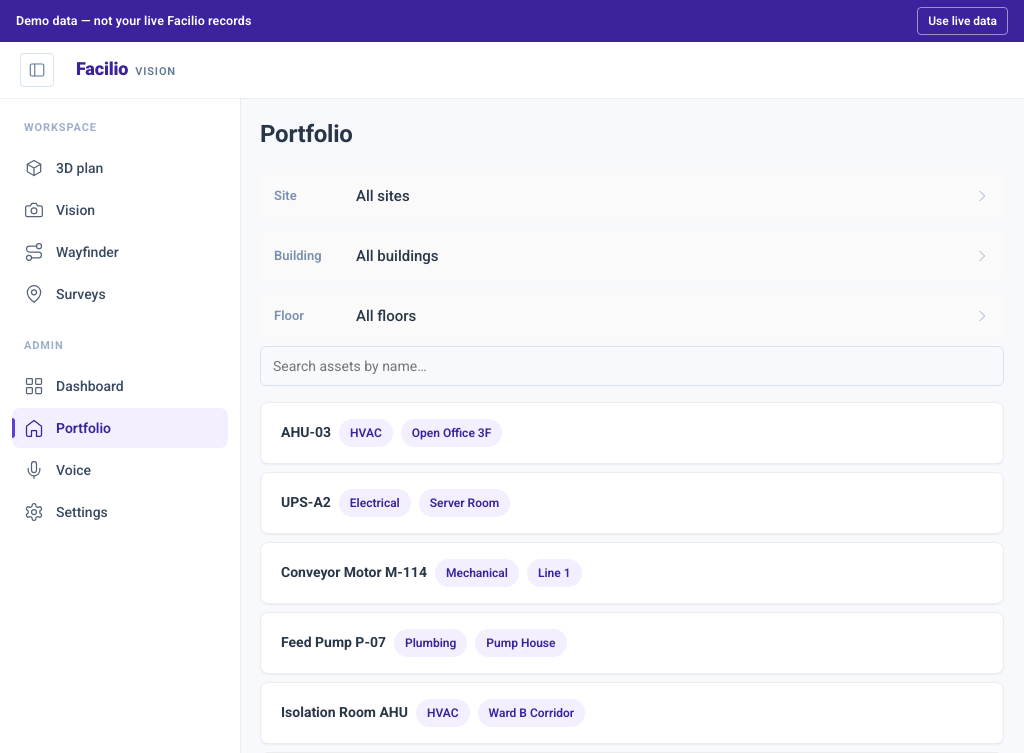
portfolio (mock mode) › creates a work order against the asset
The width and height of the screenshot is (1024, 753).
Step 1. Click the text "UPS-A2" → (306, 502), box [281,494,331,510]
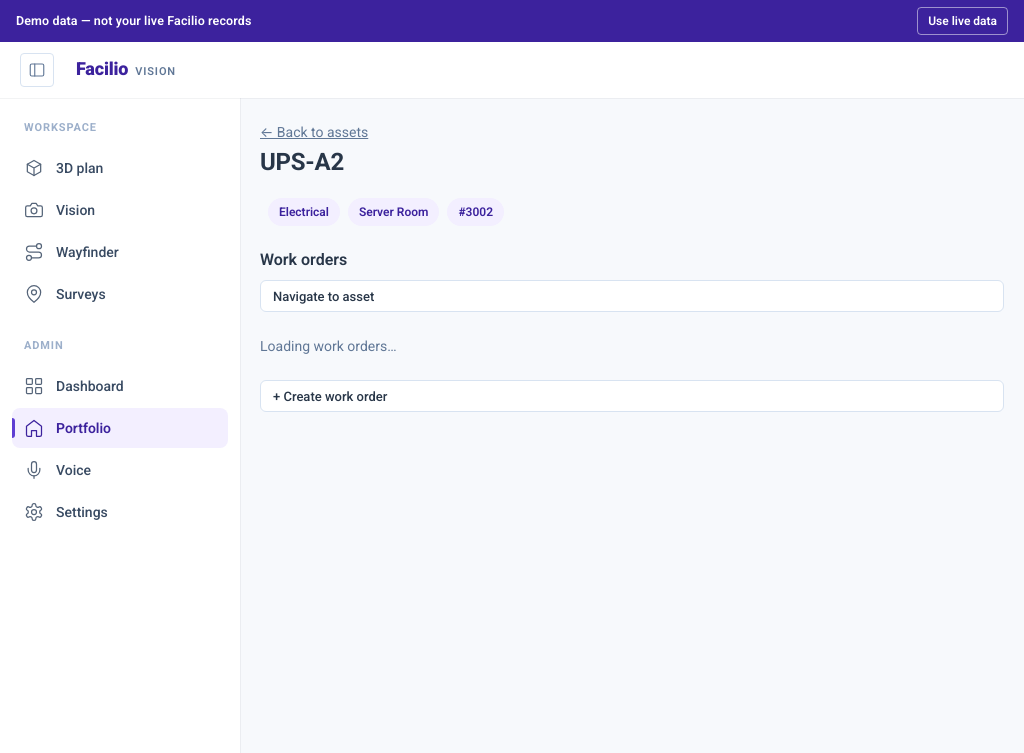
Step 2. Click the button "+ Create work order" → (330, 396), box [260,380,1004,412]
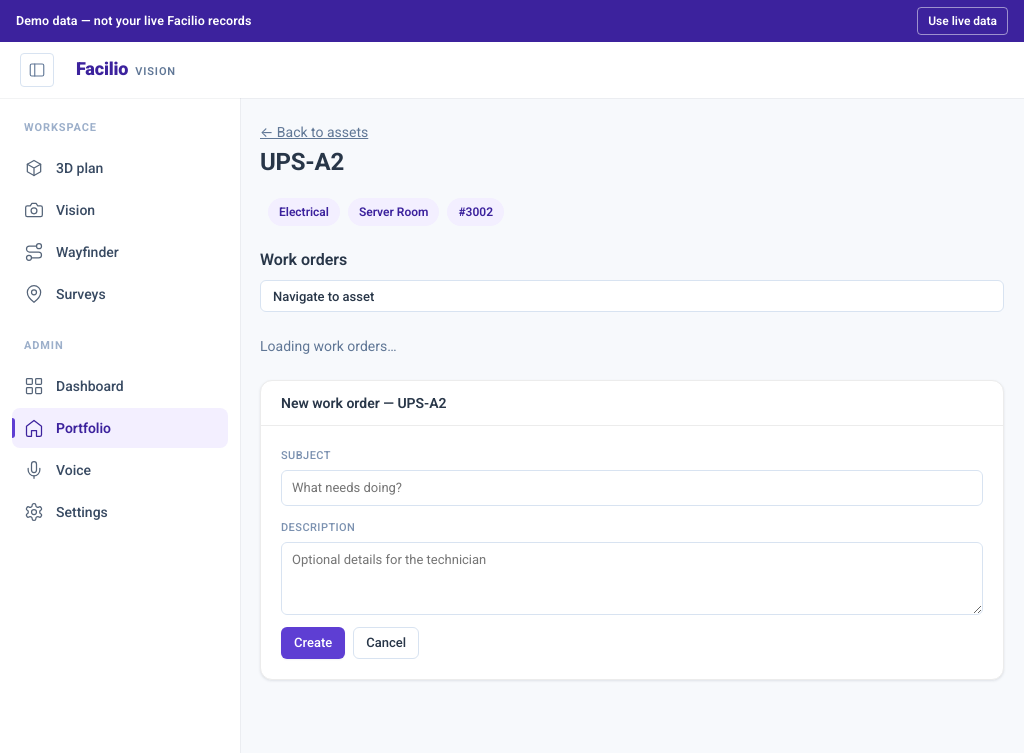
Step 3. Type "Replace battery string B" into the field with placeholder "What needs doing?" → (632, 488), box [281,470,983,506]
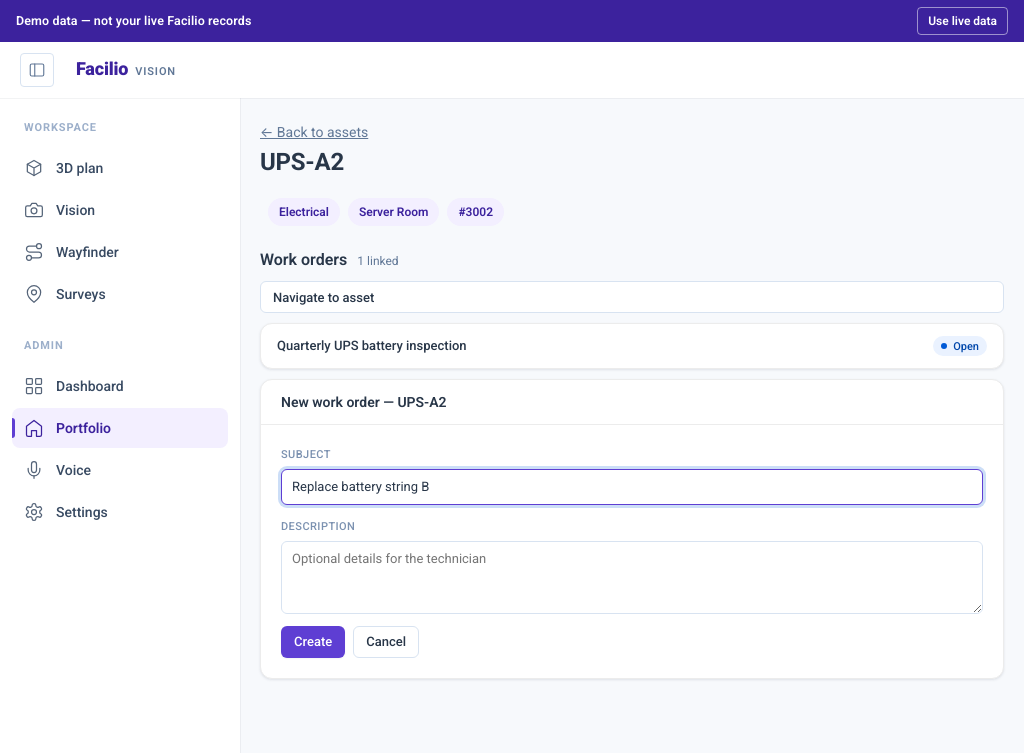
Step 4. Click the button "Create" → (313, 642), box [281,626,345,658]
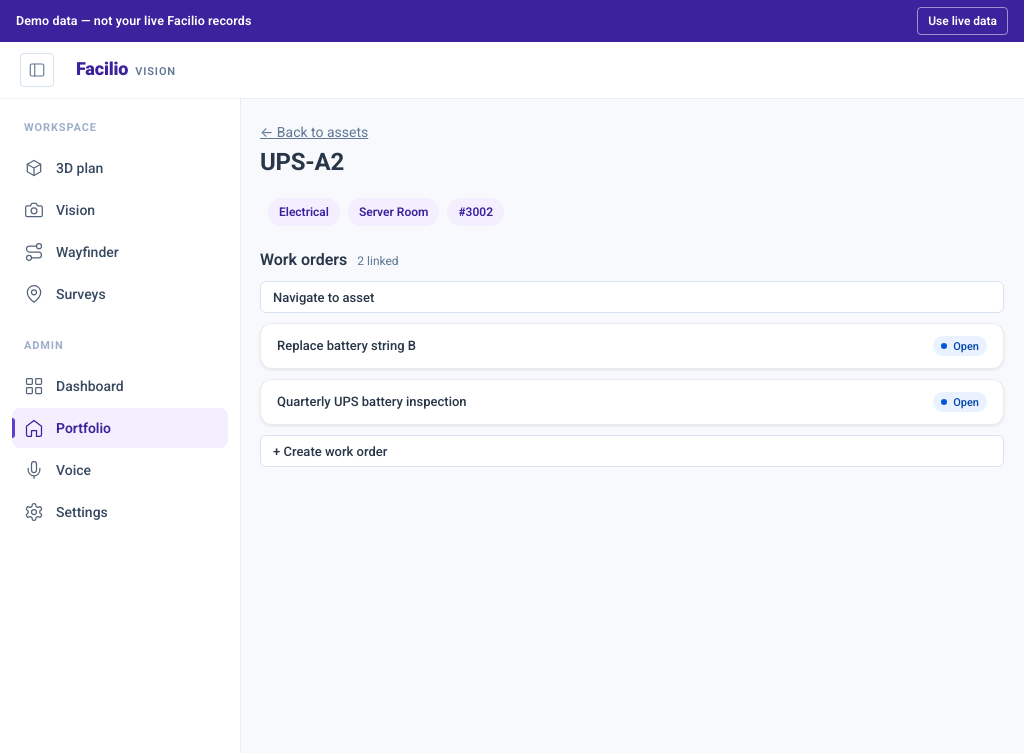
Expected: the text "Replace battery string B" is shown, [277,336,416,356]
Expected: the text "2 linked" is shown, [357,251,399,271]
